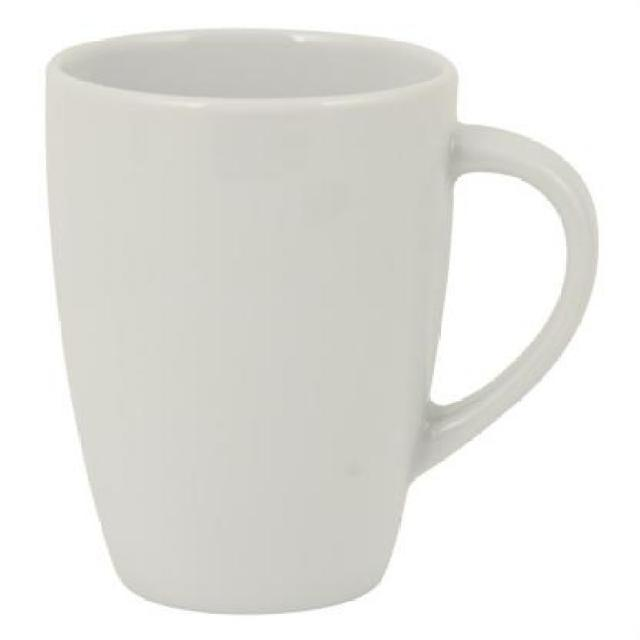taza: (43, 26, 601, 618)
